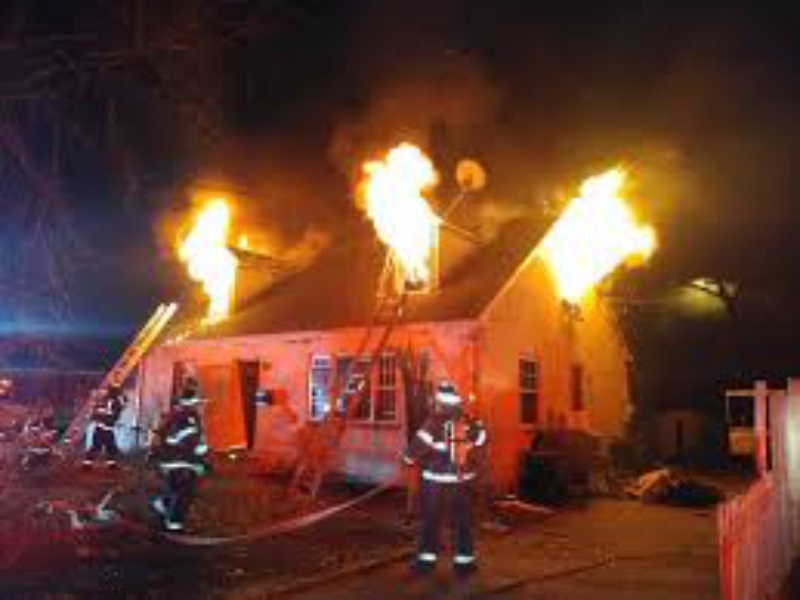fire: (539, 167, 671, 306), (344, 127, 441, 290), (166, 203, 250, 331)
